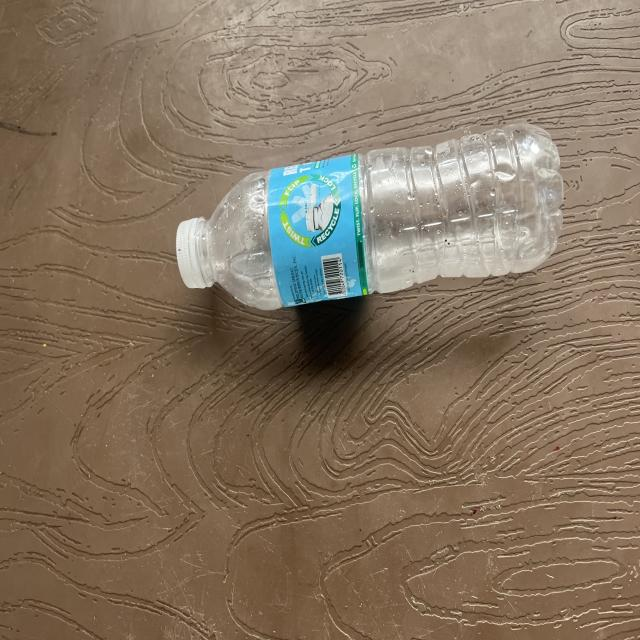REJECT: (166, 139, 585, 300)
